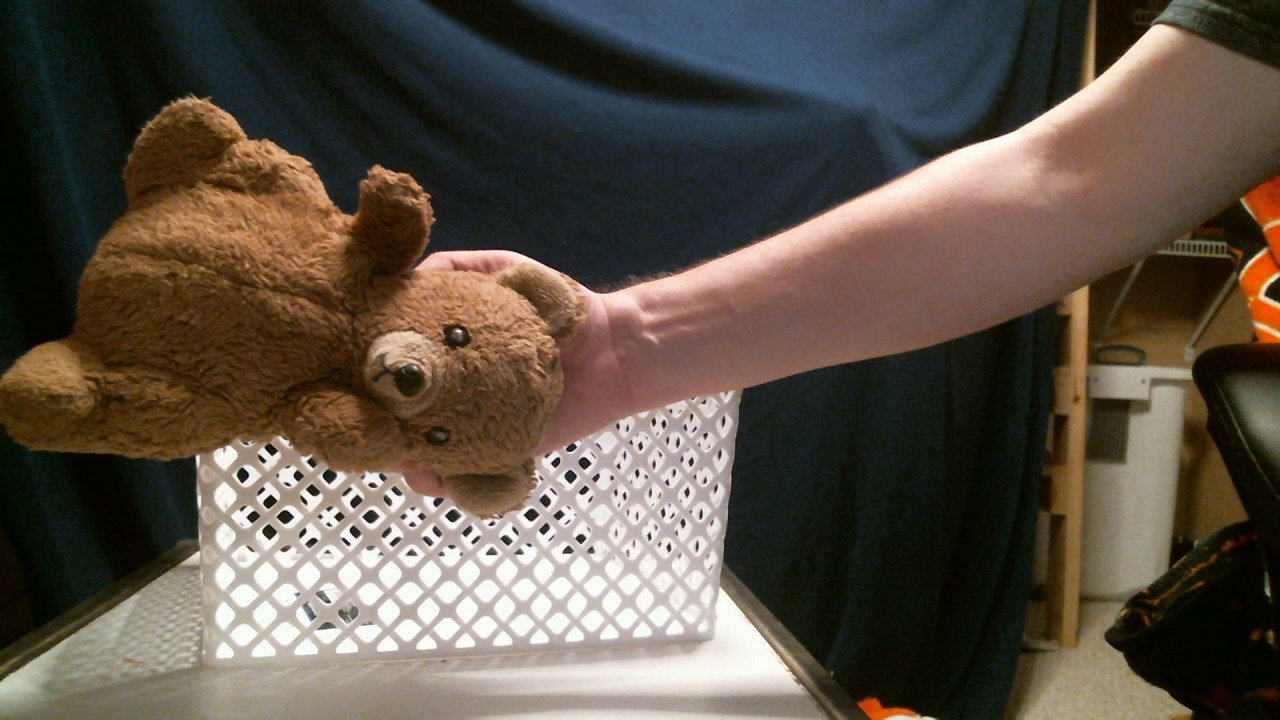Little_Mister_Bear: (361, 323, 515, 450)
